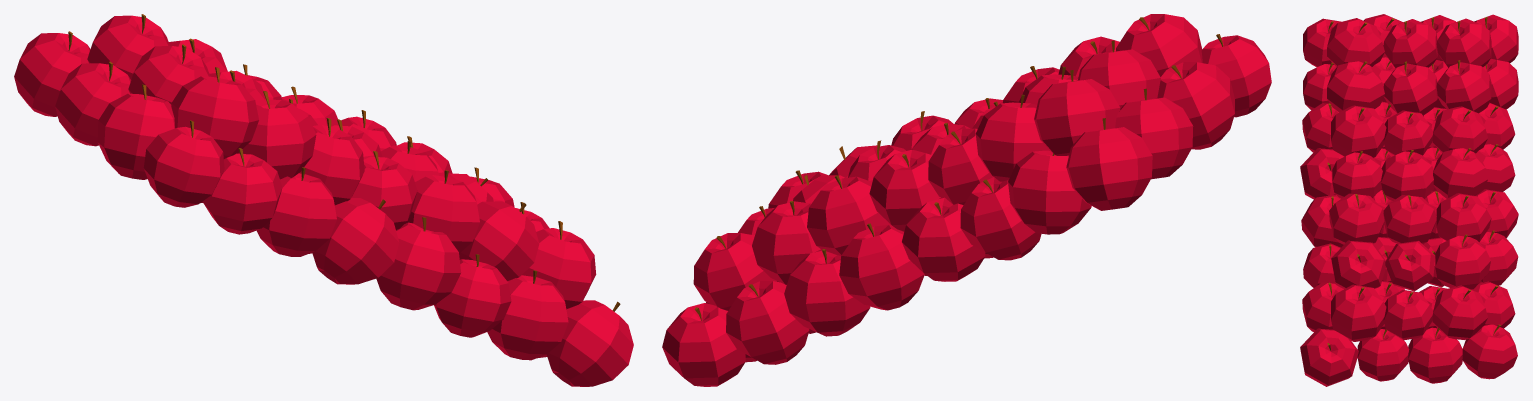
The model's file is FruitShelfApples.fbx.
3 views of the same model, side by side, from view 1: azimuth 30°, elevation 25°; view 2: azimuth 150°, elevation 25°; view 3: azimuth 270°, elevation 25° (orthographic). The views are drawn at different scales.
Visible parts, largest first — view 1: Apple; view 2: Apple; view 3: Apple.
Boxes of the visible parts, left/top/right/bottom form: Apple: left=14, top=14, right=633, bottom=386; Apple: left=662, top=14, right=1271, bottom=386; Apple: left=1300, top=14, right=1518, bottom=386.
Size of the model in its own units: 61.22 by 46.1 by 36.37.
